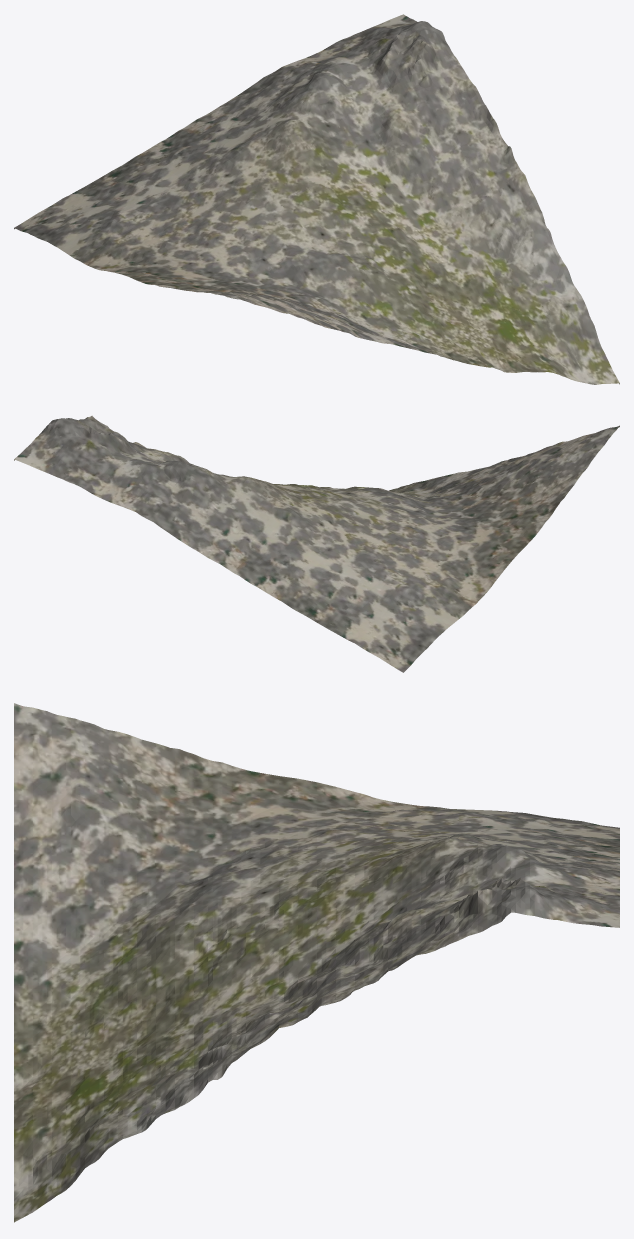
The picture shows the model from 3 angles, top to bottom: view 1: azimuth 30°, elevation 25°; view 2: azimuth 150°, elevation 25°; view 3: azimuth 270°, elevation 25°; orthographic projection. The views are drawn at different scales.
Size of the model in its own units: 250 by 143 by 241.
1 material, 1 textured.
